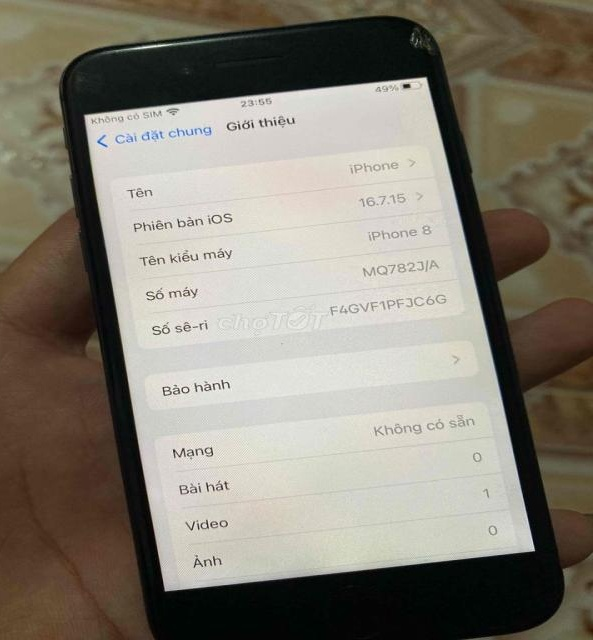physical_damage: (374, 15, 449, 65)
scratch: (56, 63, 122, 102)
